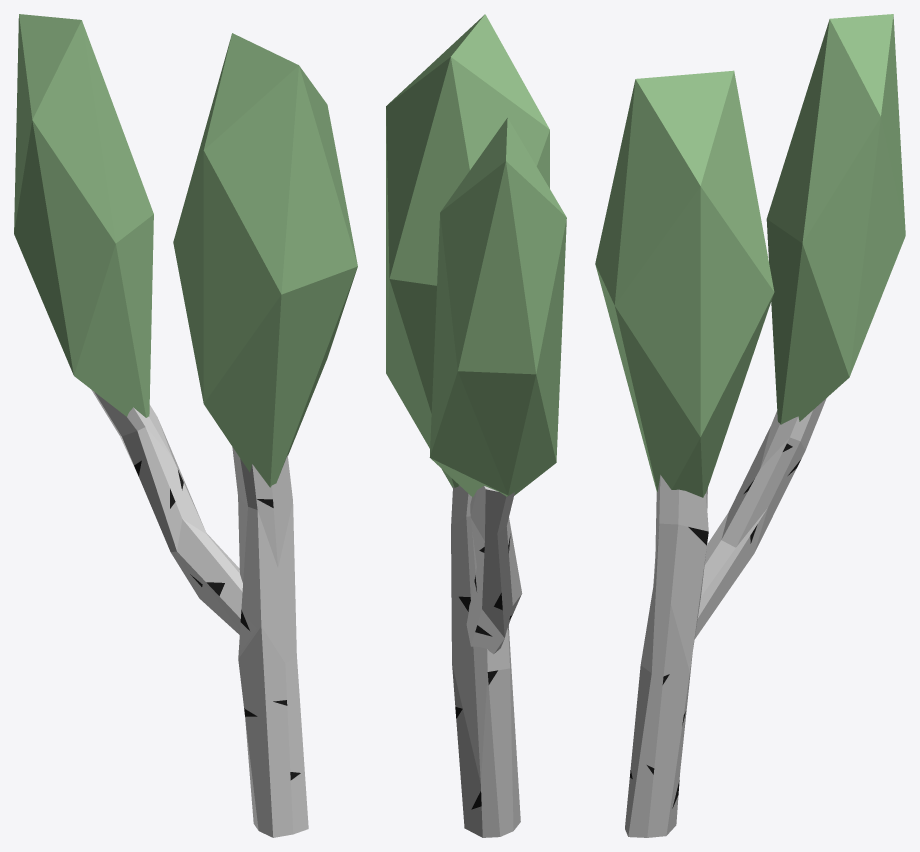
The model's file is BirchTree1.fbx.
The picture shows the model from 3 angles, left to right: view 1: azimuth 30°, elevation 25°; view 2: azimuth 150°, elevation 25°; view 3: azimuth 270°, elevation 25°; orthographic projection. The views are drawn at different scales.
Visible parts, largest first — view 1: BirchTree4; view 2: BirchTree4; view 3: BirchTree4.
Part boxes in pixels (bbox=[...]): BirchTree4: bbox=[14, 14, 357, 837]; BirchTree4: bbox=[386, 14, 566, 837]; BirchTree4: bbox=[595, 14, 905, 837].
Size of the model in its own units: 2.79 by 8.74 by 3.25.
